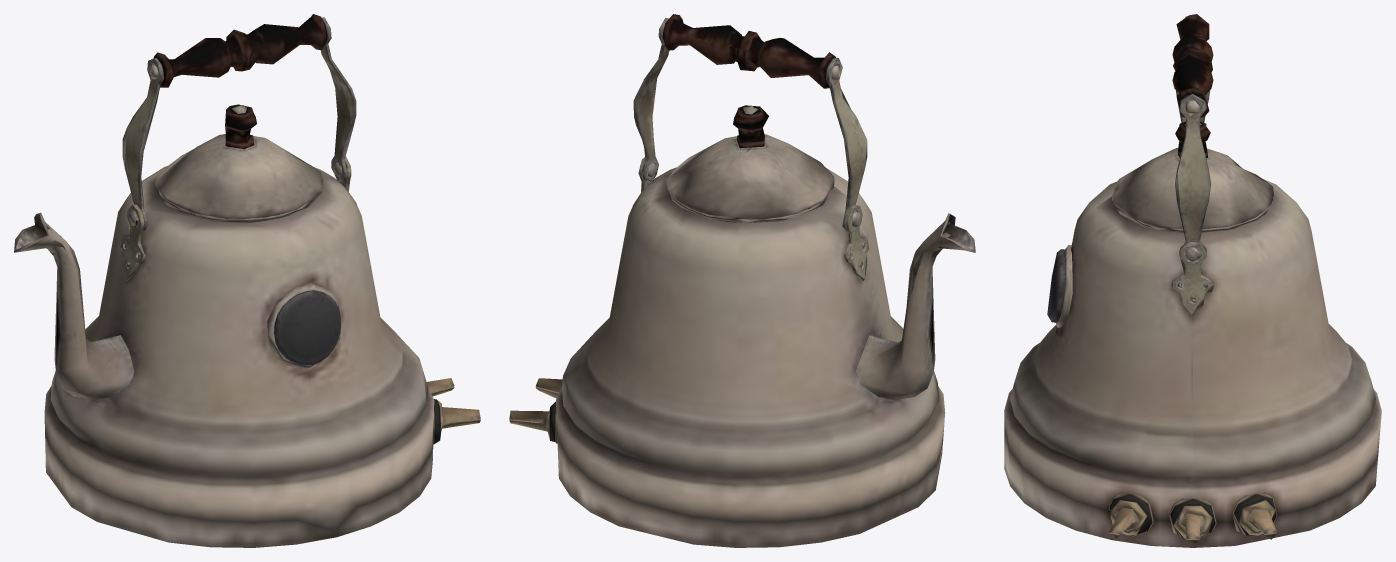
File: kettle.glb
3 renders of one model, left to right at view 1: azimuth 30°, elevation 25°; view 2: azimuth 150°, elevation 25°; view 3: azimuth 270°, elevation 25°, orthographic. The views are drawn at different scales.
Parts seen in each view (by area): view 1: vintage_electric_kettle; view 2: vintage_electric_kettle; view 3: vintage_electric_kettle.
Part boxes in pixels (x1=…): vintage_electric_kettle: x1=14, y1=14, x2=480, y2=547; vintage_electric_kettle: x1=509, y1=14, x2=975, y2=547; vintage_electric_kettle: x1=1004, y1=14, x2=1381, y2=547.
Size of the model in its own units: 0.3201 by 0.3035 by 0.2478.
2 materials, 2 textured.
